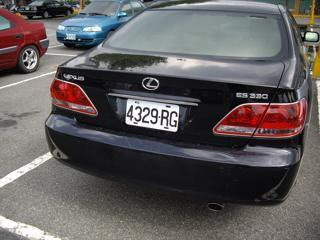plate: (124, 97, 181, 133)
